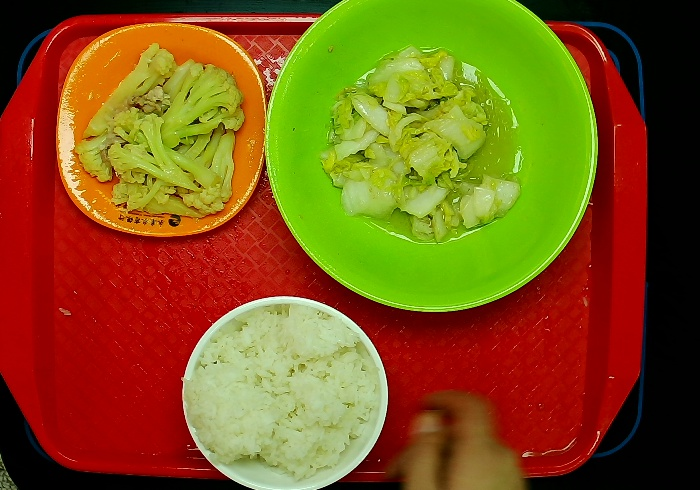YKMZ-Fan_Wan: (180, 296, 390, 490)
YKMZ-Ju_Se_Fang_Die: (56, 22, 265, 237)
YKMZ-Lv_Se_Tang_Wan: (261, 1, 599, 316)
